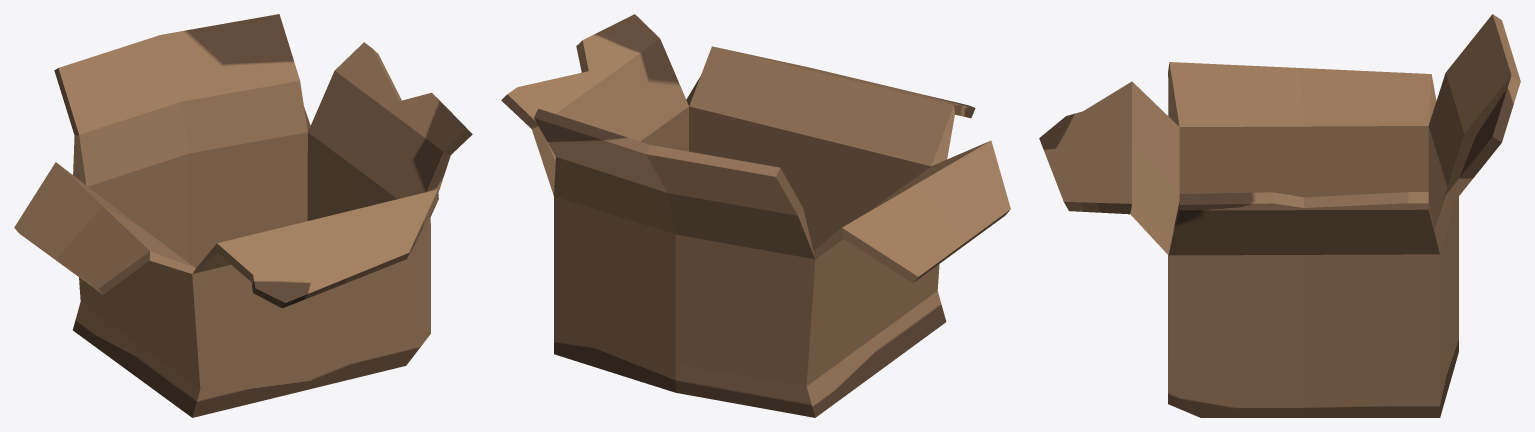
Rendered from SM_Cardboard_Box_B.gltf.
3 renders of one model, left to right at view 1: azimuth 30°, elevation 25°; view 2: azimuth 150°, elevation 25°; view 3: azimuth 270°, elevation 25°, orthographic. The views are drawn at different scales.
Parts seen in each view (by area): view 1: SM_Cardboard_Box_B; view 2: SM_Cardboard_Box_B; view 3: SM_Cardboard_Box_B.
Boxes of the visible parts, x1=… form: SM_Cardboard_Box_B: x1=14, y1=14, x2=472, y2=417; SM_Cardboard_Box_B: x1=501, y1=14, x2=1010, y2=417; SM_Cardboard_Box_B: x1=1039, y1=14, x2=1520, y2=417.
Bounding box in the file's own units: 0.8726 × 0.5504 × 0.869.
1 material, 1 textured.
